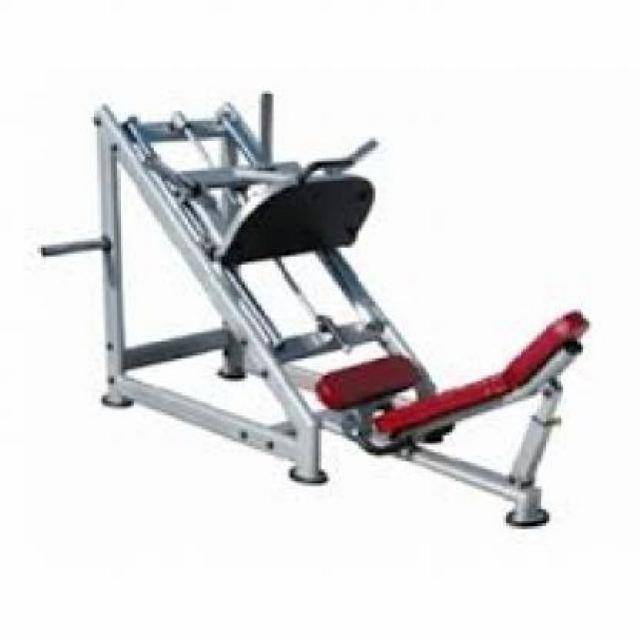leg press: (30, 81, 588, 554)
